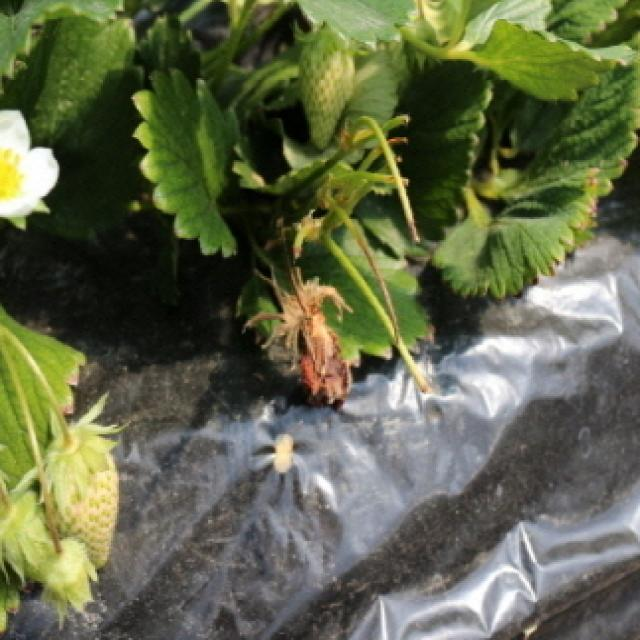Gray Mold: (239, 270, 355, 410)
